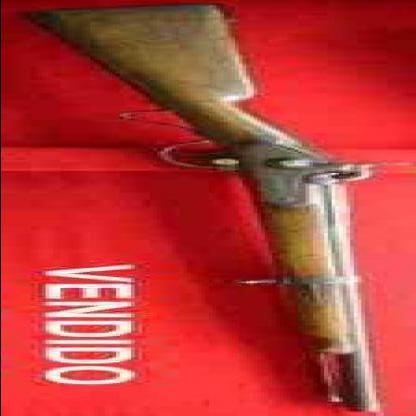rifle: (18, 3, 408, 415)
